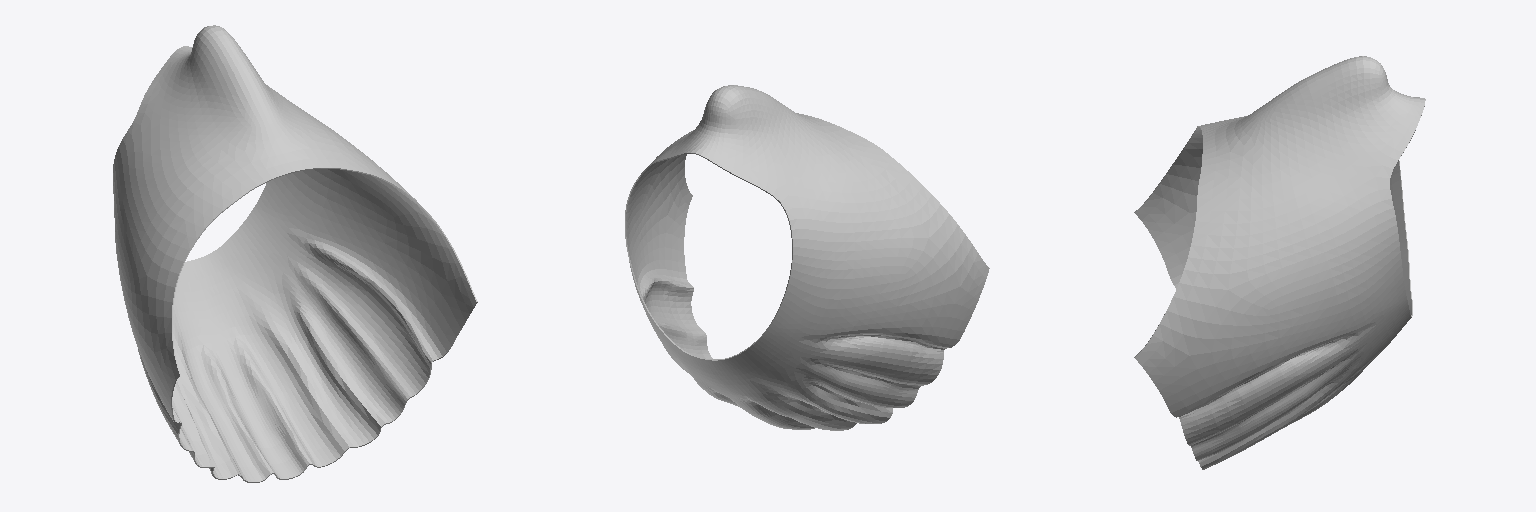
File: back.obj
3 views of the same model, side by side, from view 1: azimuth 30°, elevation 25°; view 2: azimuth 150°, elevation 25°; view 3: azimuth 270°, elevation 25° (orthographic).
Visible parts, largest first — view 1: whale; view 2: whale; view 3: whale.
Part boxes in pixels (left/top/right/bottom): whale: left=113, top=25, right=477, bottom=482; whale: left=625, top=85, right=989, bottom=430; whale: left=1134, top=56, right=1425, bottom=469.
Bounding box in the file's own units: 5.34 × 6.76 × 4.51.